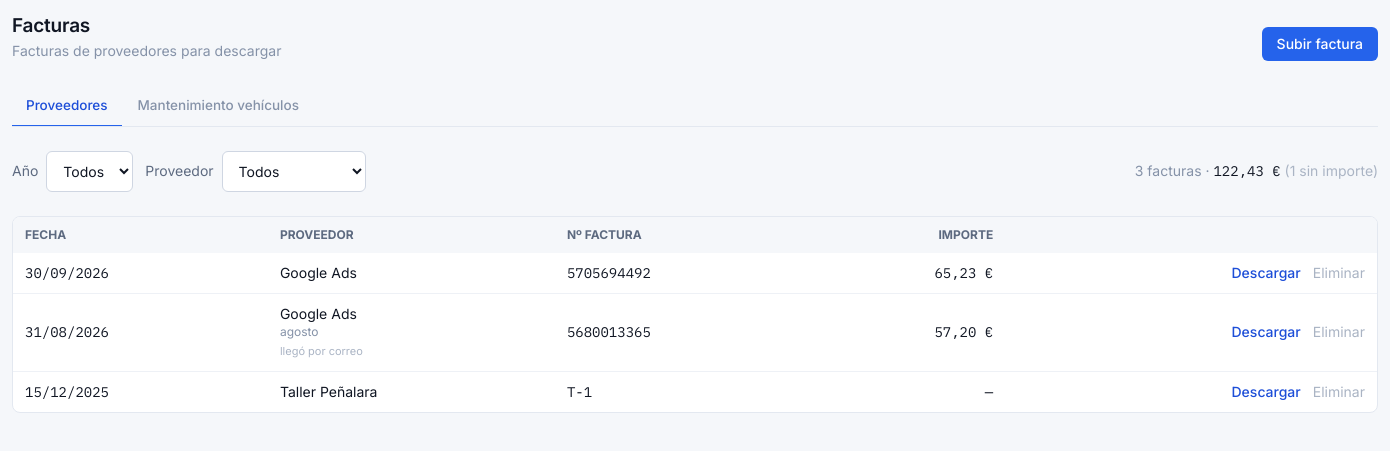
Facturas › un fallo al descargar sale como aviso
Expected: the text "5705694492" is shown, [555,253,810,293]
Click the button "Descargar" in the row of "30/09/2026": click(1266, 273) [1232,263,1301,283]
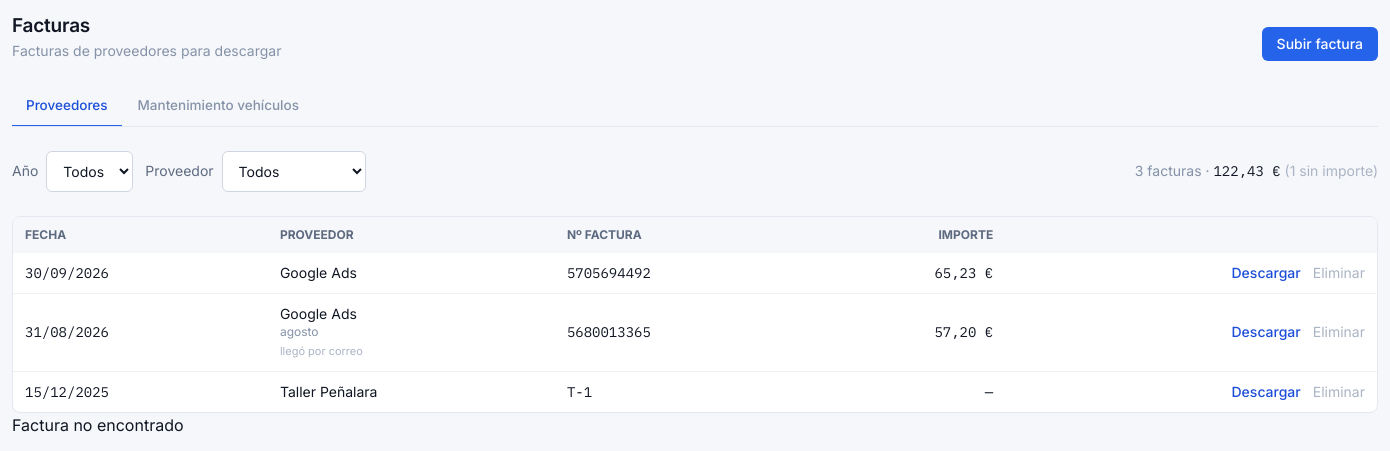
Result: the text "Factura no encontrado" is shown at [12,415,184,435]
